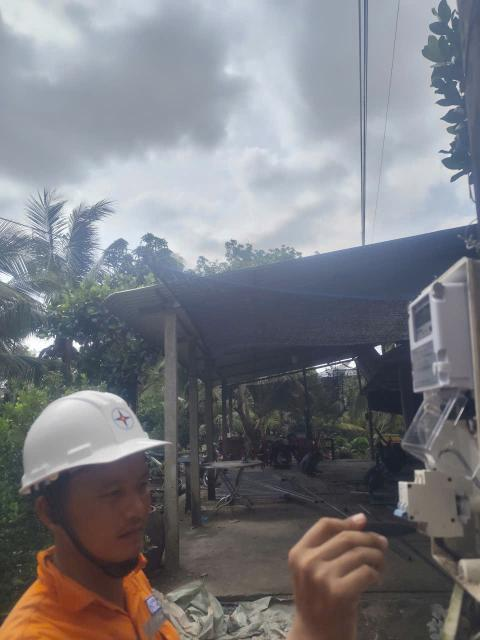helmet: (11, 385, 168, 498)
